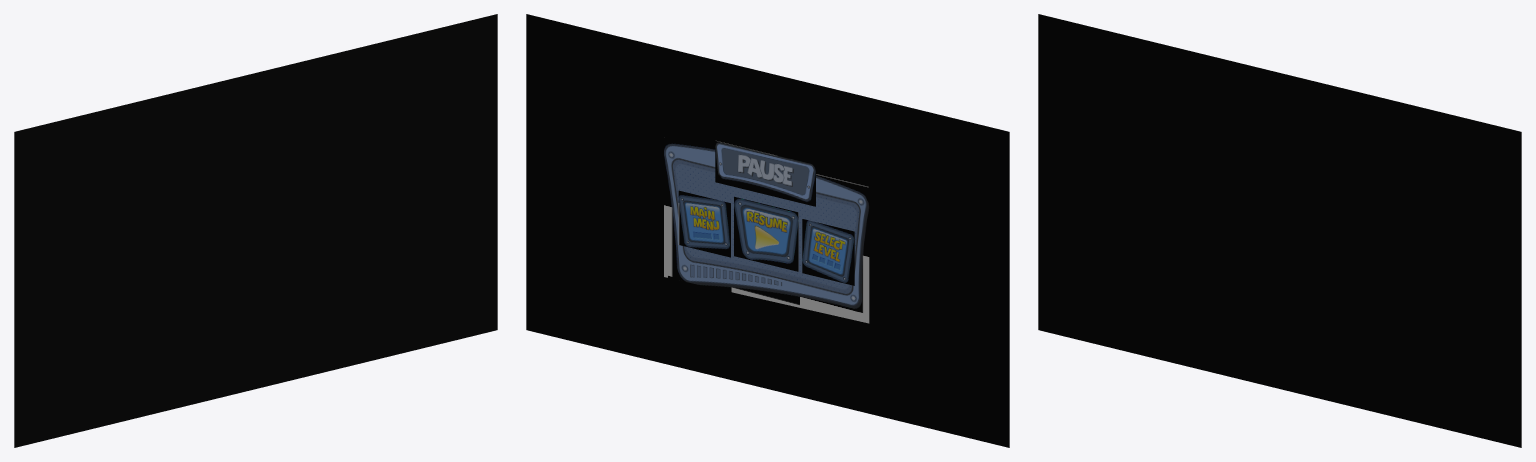
The model's file is level_paused_window.glb.
3 views of the same model, side by side, from view 1: azimuth 30°, elevation 25°; view 2: azimuth 150°, elevation 25°; view 3: azimuth 330°, elevation 25° (orthographic).
Visible parts, largest first — view 1: Shader; view 2: Shader, level_paused_window, level_paused_n, resume_GUI, select_level_GUI_p, main_menu_GUI_p; view 3: Shader.
Part boxes in pixels (x1,y1,x2,y2): Shader: (14, 14, 497, 447); Shader: (526, 14, 1009, 447); level_paused_window: (664, 137, 869, 323); level_paused_n: (715, 140, 815, 206); resume_GUI: (734, 196, 798, 271); select_level_GUI_p: (802, 219, 854, 285); main_menu_GUI_p: (678, 190, 730, 257); Shader: (1038, 14, 1521, 447).
Bounding box in the file's own units: 1300 × 812 × 11.75.
2 materials, 2 textured.
